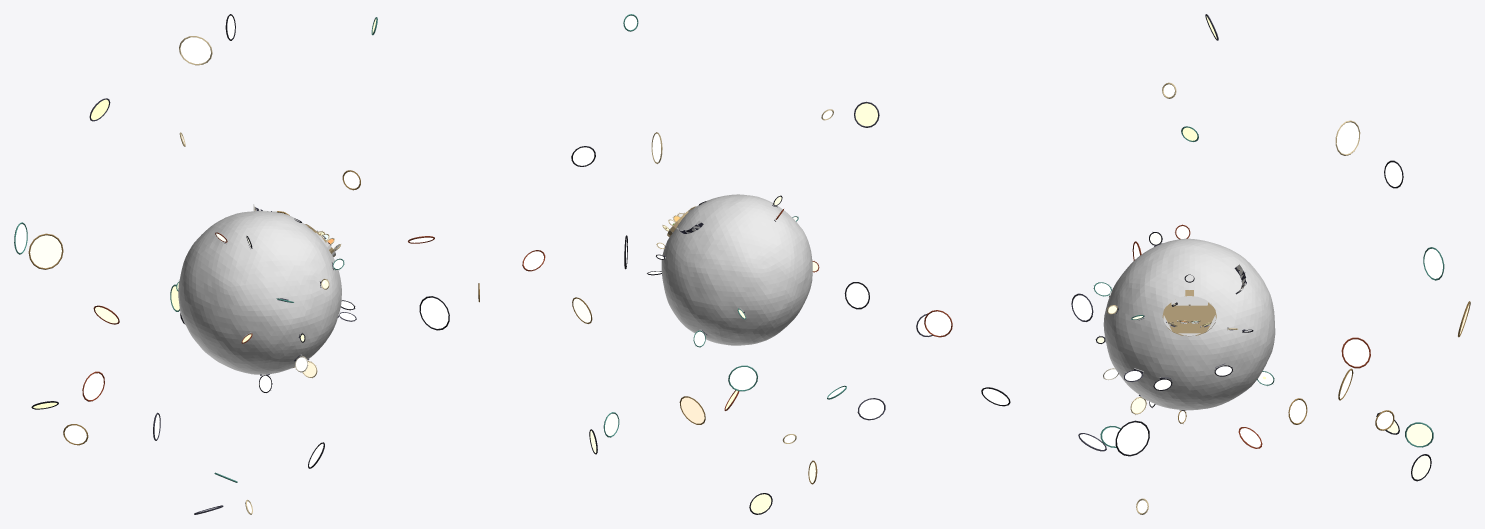
The model's file is puertas.glb.
The picture shows the model from 3 angles, left to right: view 1: azimuth 30°, elevation 25°; view 2: azimuth 150°, elevation 25°; view 3: azimuth 270°, elevation 25°; orthographic projection. The views are drawn at different scales.
Parts seen in each view (by area): view 1: COL_puertas_Terreno, puertas_Luces, puertas_Lugares; view 2: COL_puertas_Terreno, puertas_Luces, puertas_Lugares; view 3: COL_puertas_Terreno, puertas_Luces, puertas_Lugares, COL_puertas_Lugares.
Part boxes in pixels (x1=…): COL_puertas_Terreno: x1=178, y1=211, x2=341, y2=374; puertas_Luces: x1=15, y1=15, x2=448, y2=513; puertas_Lugares: x1=14, y1=14, x2=449, y2=514; COL_puertas_Terreno: x1=661, y1=194, x2=812, y2=345; puertas_Luces: x1=523, y1=15, x2=951, y2=513; puertas_Lugares: x1=478, y1=14, x2=952, y2=514; COL_puertas_Terreno: x1=1103, y1=238, x2=1275, y2=410; puertas_Luces: x1=983, y1=16, x2=1469, y2=513; puertas_Lugares: x1=981, y1=14, x2=1470, y2=514; COL_puertas_Lugares: x1=1104, y1=243, x2=1248, y2=410.
Size of the model in its own units: 172 by 180 by 172.
